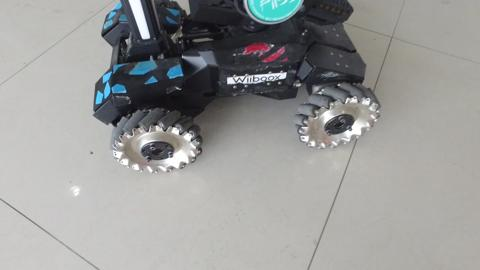chariot: (72, 26, 386, 164)
